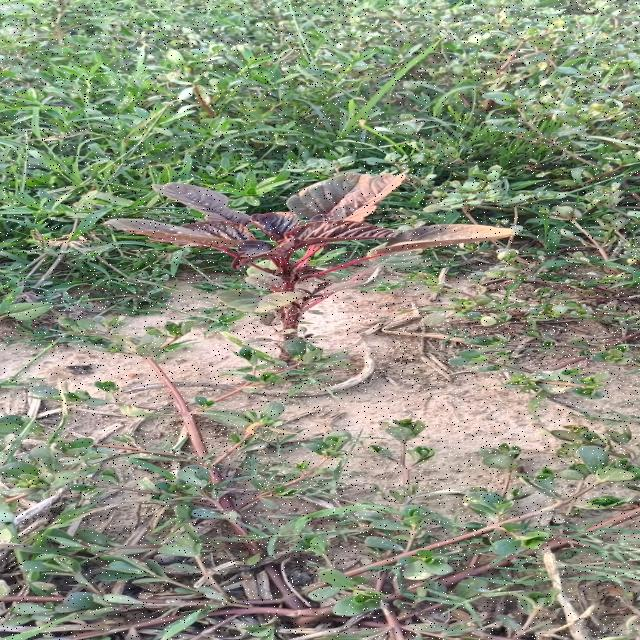plant: (105, 172, 513, 293), (273, 295, 323, 331)
